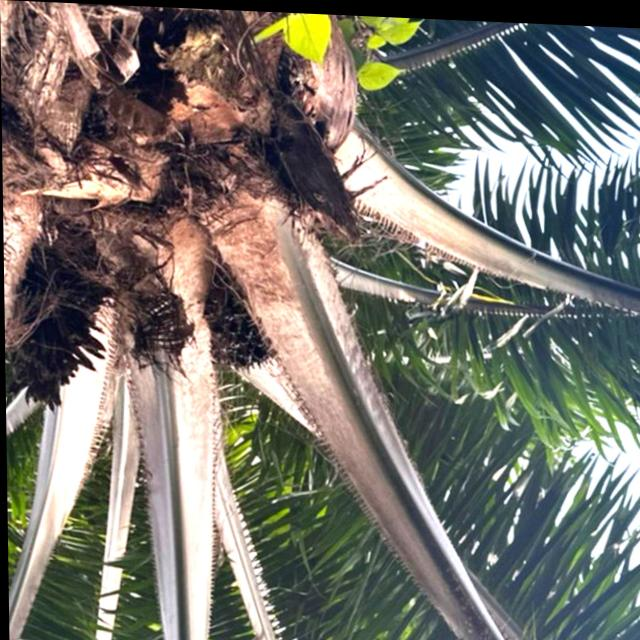unripe: (196, 264, 276, 375)
